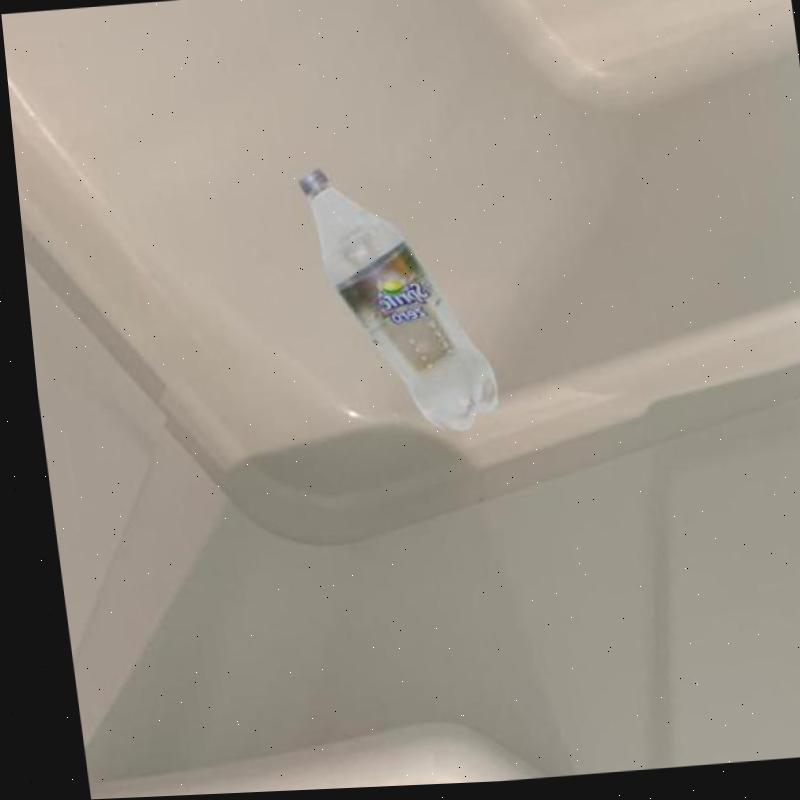botella: (295, 158, 495, 444)
